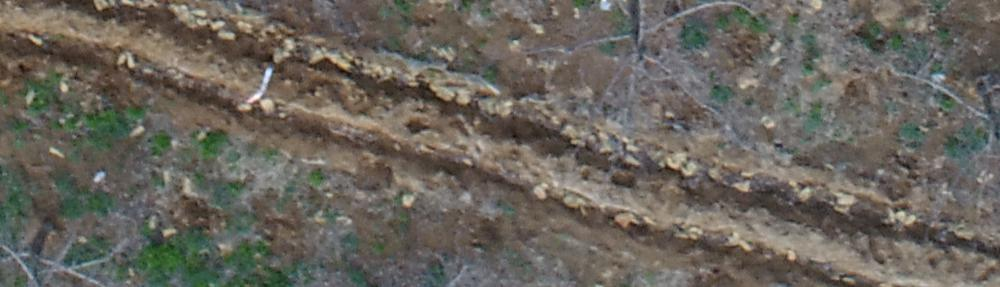apple: (532, 10, 763, 163), (897, 57, 990, 257)
